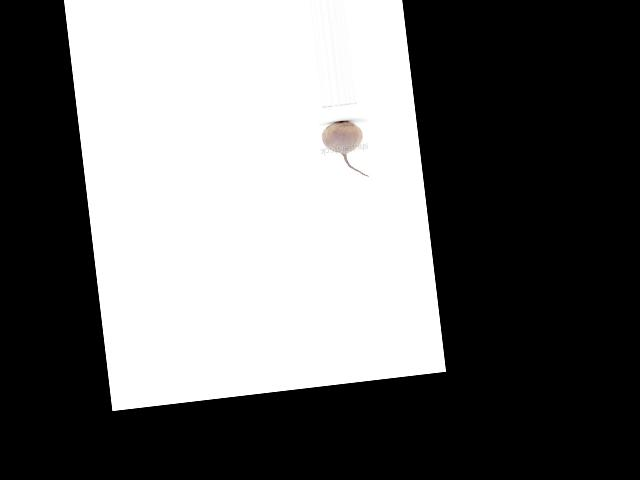beet: (319, 118, 368, 181)
